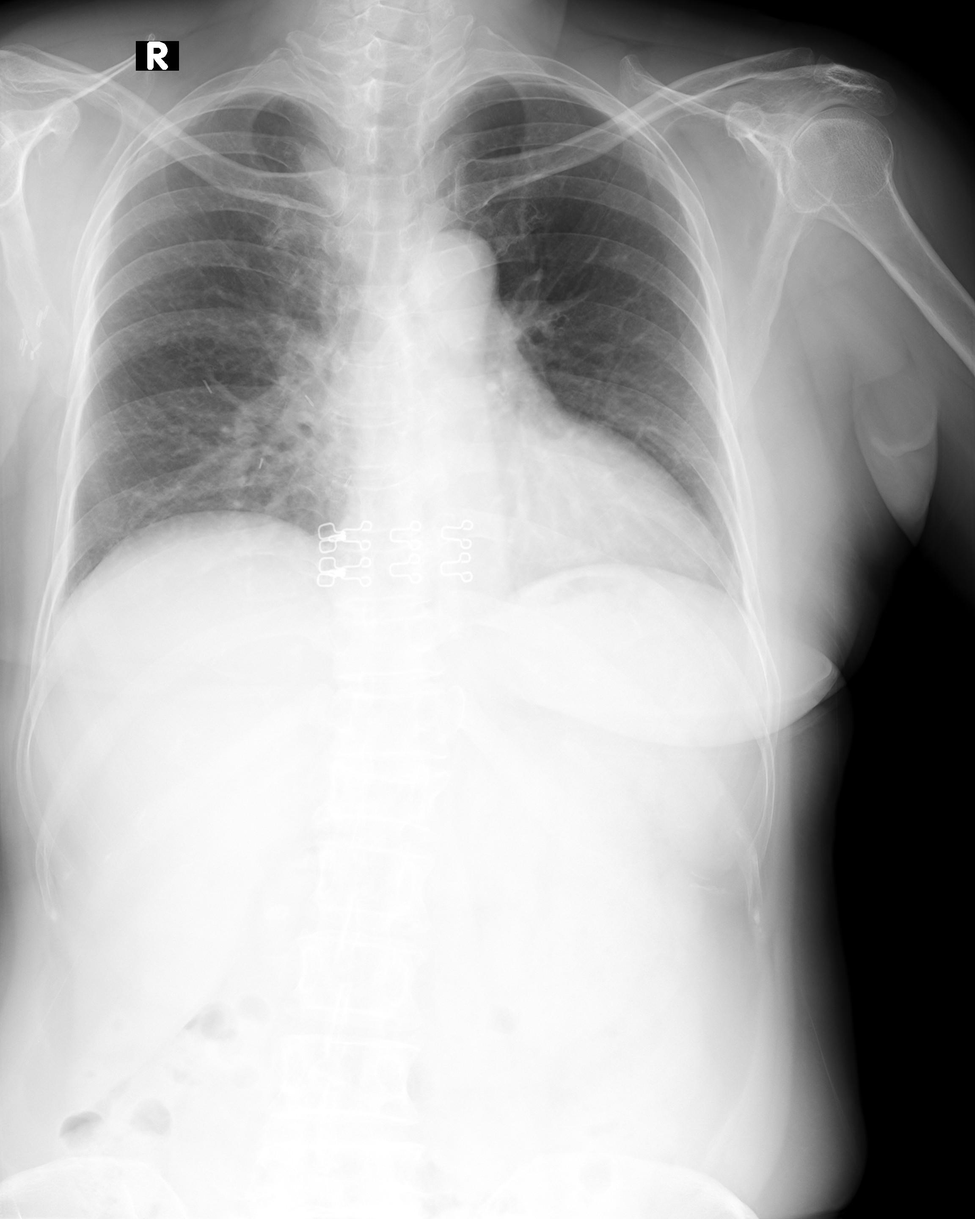Cardiomegaly: (308, 436, 723, 579)
